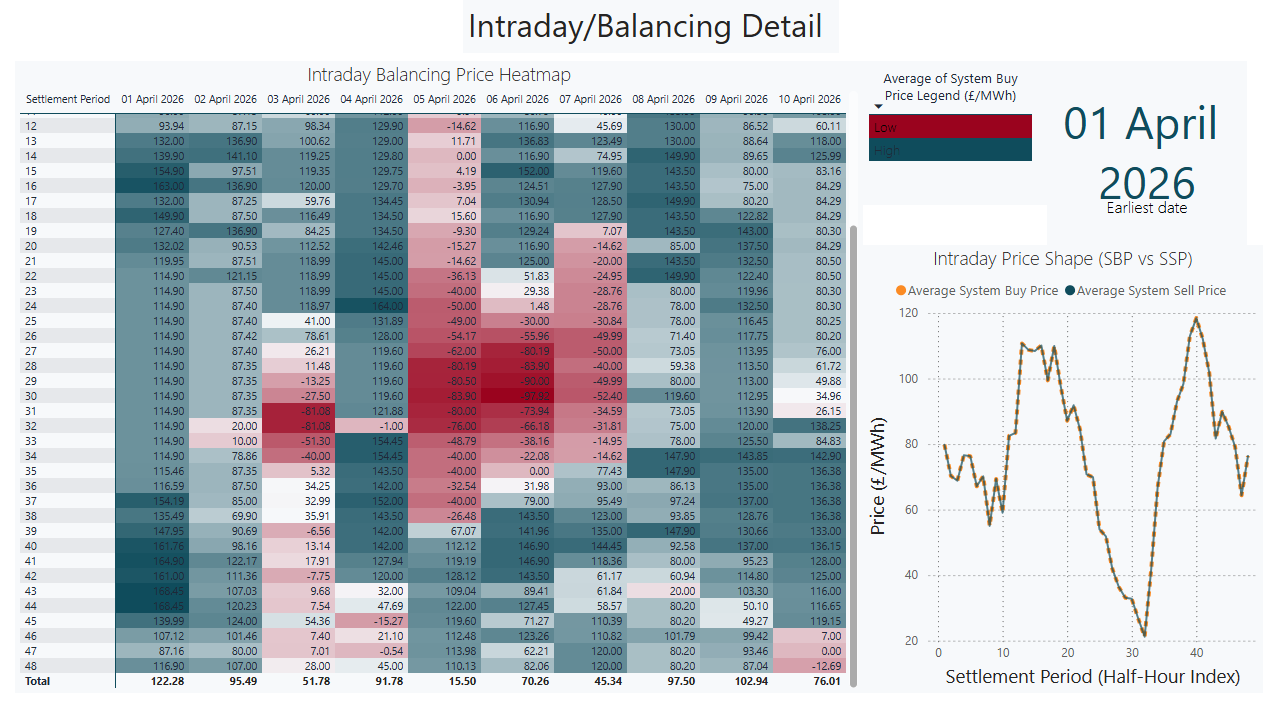

What the dashboard file says about the page in this screenshot:
{"tool":"powerbi","page":{"name":"Intraday/Balancing Detail","canvas":[1280,720],"ordinal":1},"visuals":[{"type":"pivotTable","title":"Intraday Balancing Price Heatmap","fields":{"Values":["Avg(fact_power_market.sbp_gbp_mwh)"],"Rows":["fact_power_market.settlement_period"],"Columns":["fact_power_market.date"]},"box":[16,64,848,632],"z":1000},{"type":"card","fields":{"Values":["Min(fact_power_market.date)"]},"box":[1048,64,200,184],"z":1000},{"type":"textbox","box":[464,0,376,56],"z":2000},{"type":"lineChart","title":"Intraday Price Shape (SBP vs SSP)","fields":{"Category":["fact_power_market.settlement_period"],"Y":["fact_power_market.Avg SBP","fact_power_market.Avg SSP"]},"box":[864,248,400,448],"z":3001},{"type":"tableEx","fields":{"Values":["IntraPrice Colour Legend.Label"]},"box":[864,64,184,144],"z":4002}]}

Visuals, with their boxes in screenshot pixels (x1, y1, x2, y2), scaled from the page's 1280x720 canvas onto the 1272x704 screenshot:
"Intraday Balancing Price Heatmap" pivotTable: x1=16 y1=63 x2=859 y2=681
card - Min(fact_power_market.date): x1=1041 y1=63 x2=1240 y2=242
textbox: x1=461 y1=0 x2=835 y2=55
"Intraday Price Shape (SBP vs SSP)" lineChart: x1=859 y1=242 x2=1256 y2=681
tableEx - IntraPrice Colour Legend.Label: x1=859 y1=63 x2=1041 y2=203
